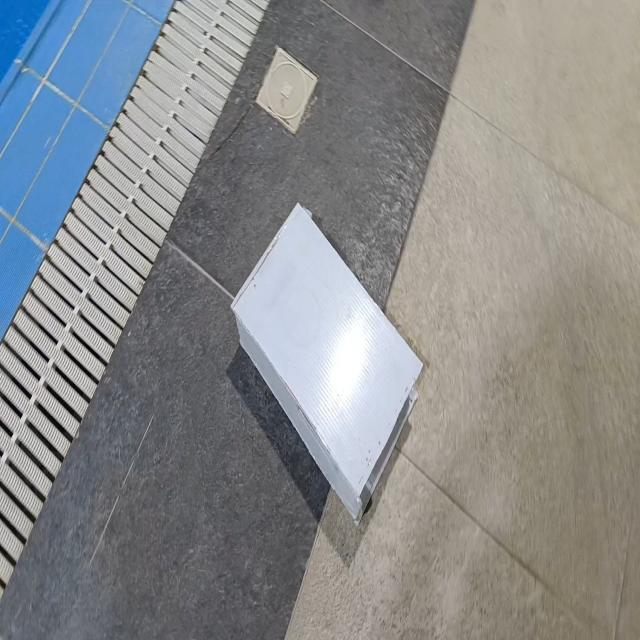Cuboid: (230, 200, 423, 522)
